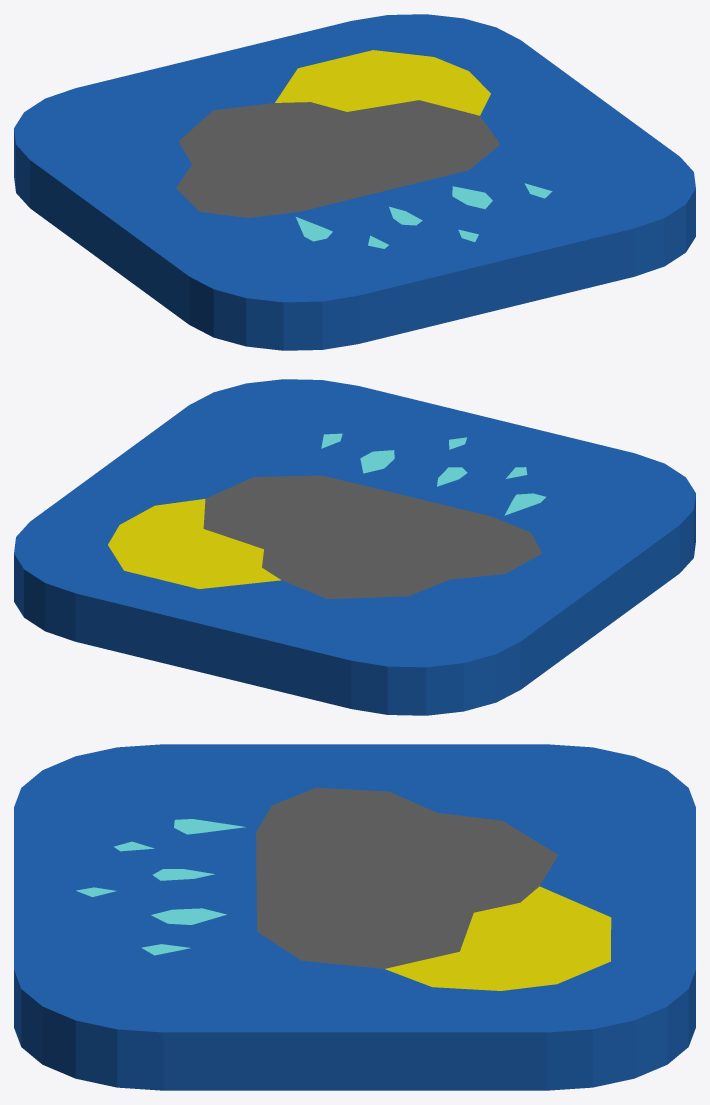
The model's file is app_meteo.fbx.
The picture shows the model from 3 angles, top to bottom: view 1: azimuth 30°, elevation 25°; view 2: azimuth 150°, elevation 25°; view 3: azimuth 270°, elevation 25°; orthographic projection. The views are drawn at different scales.
Parts seen in each view (by area): view 1: Cube; view 2: Cube; view 3: Cube.
Part boxes in pixels (left/top/right/bottom): Cube: left=14, top=14, right=695, bottom=350; Cube: left=14, top=379, right=695, bottom=715; Cube: left=14, top=744, right=695, bottom=1090.
Bounding box in the file's own units: 1000 × 94.22 × 1000.
